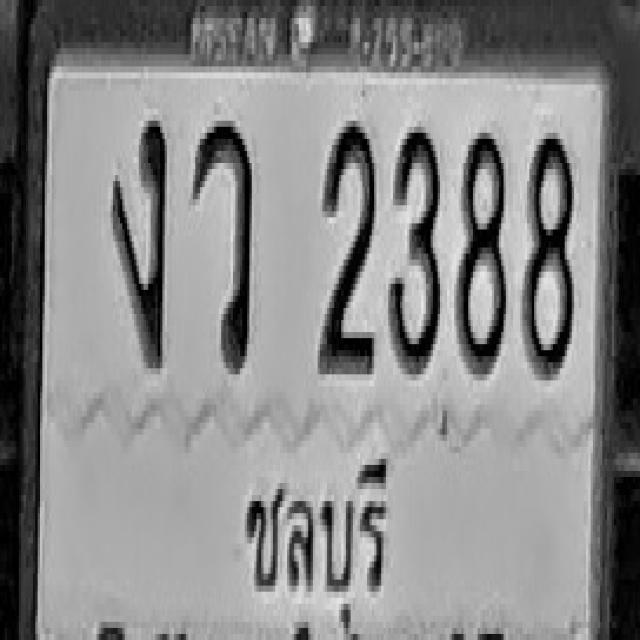16NgorNgu: (112, 115, 166, 368)
2: (319, 118, 375, 371)
3: (388, 124, 440, 371)
46WorWaen: (192, 115, 253, 368)
8: (456, 127, 506, 374), (523, 133, 573, 374)
Chonburi: (230, 437, 385, 640)
